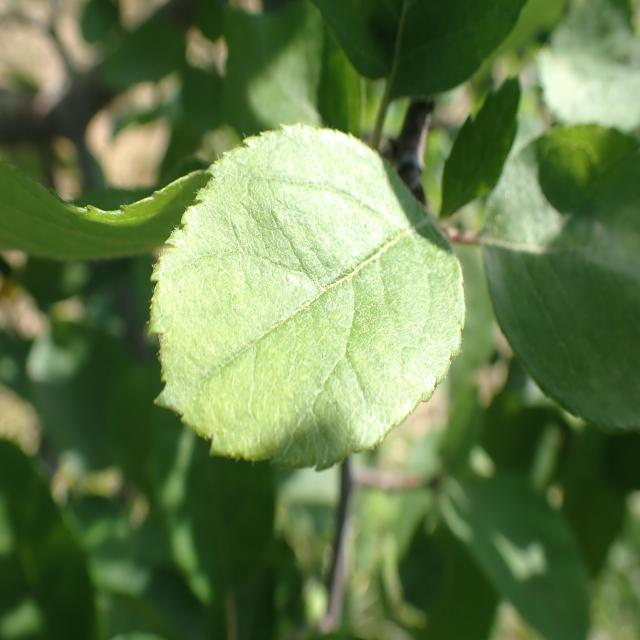healthy: (147, 121, 466, 473), (482, 121, 640, 431), (310, 0, 529, 100)
